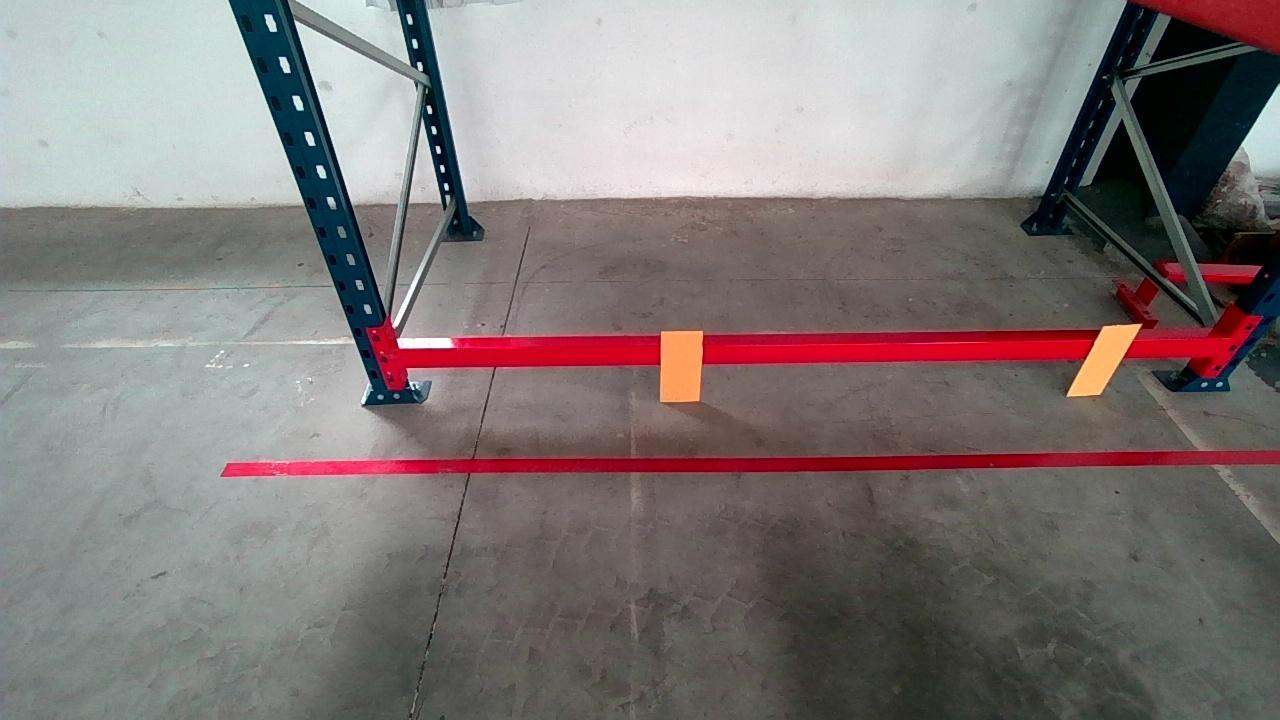h_rack: (393, 340, 1225, 368)
orange_strip: (1067, 323, 1143, 394), (660, 330, 703, 401)
red_line: (214, 448, 1280, 477)
